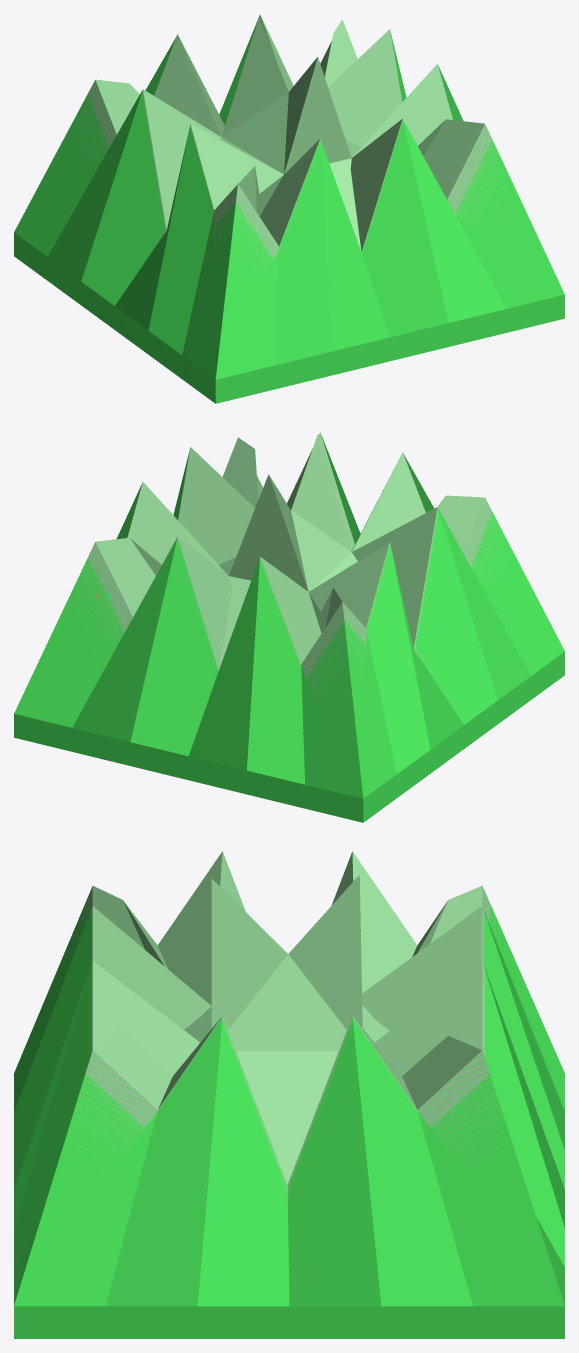
The model's file is grass.glb.
The picture shows the model from 3 angles, top to bottom: view 1: azimuth 30°, elevation 25°; view 2: azimuth 150°, elevation 25°; view 3: azimuth 270°, elevation 25°; orthographic projection. The views are drawn at different scales.
Parts seen in each view (by area): view 1: Cube; view 2: Cube; view 3: Cube.
Part boxes in pixels (x1,y1,x2,y2): Cube: (14, 14, 564, 403); Cube: (14, 432, 564, 822); Cube: (14, 851, 564, 1338).
Bounding box in the file's own units: 2.83 × 1.95 × 2.83.
Materials: 1 (1 with a texture image).
